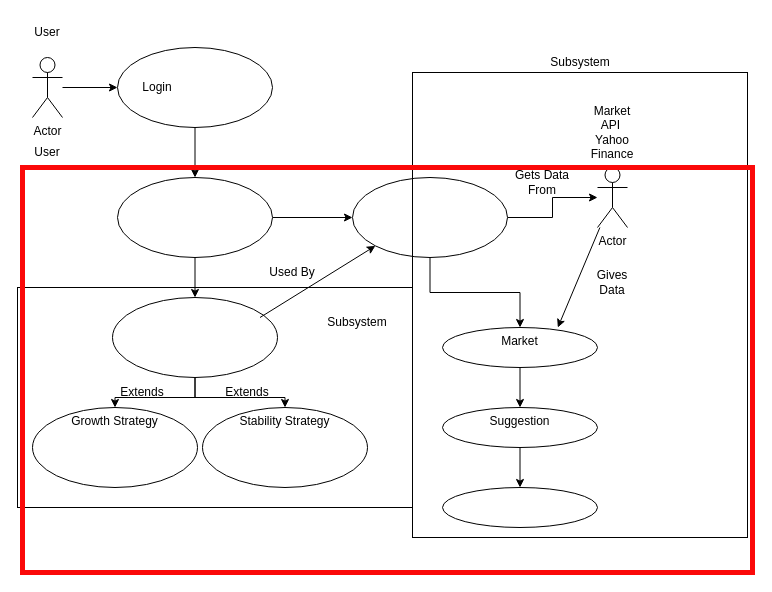
Image size: 772x592. Some labels were removed from this diagram. Here are the shapes that lost their labels. From the top down, the centre of each, then its label:
point 194,217: Stock Suggestor
point 430,217: Report
point 195,337: Strategy
point 520,507: Stock
